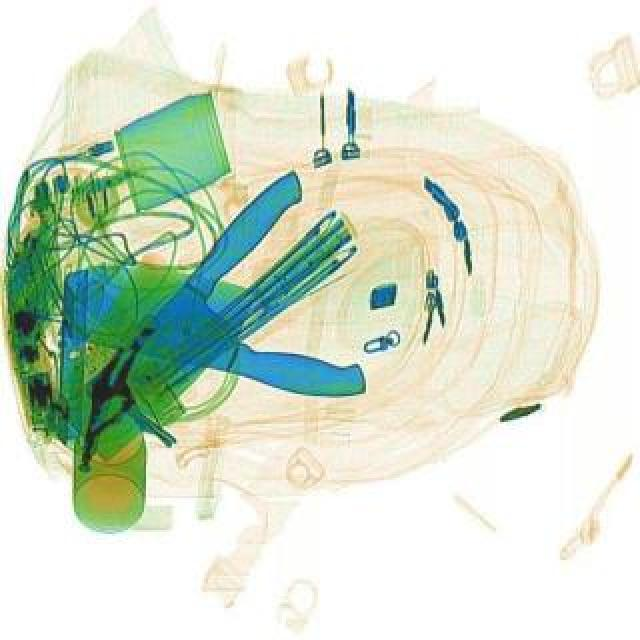knife: (42, 164, 354, 464), (54, 248, 384, 406)
